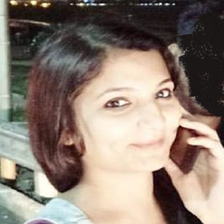no_mask: (42, 40, 179, 172)
